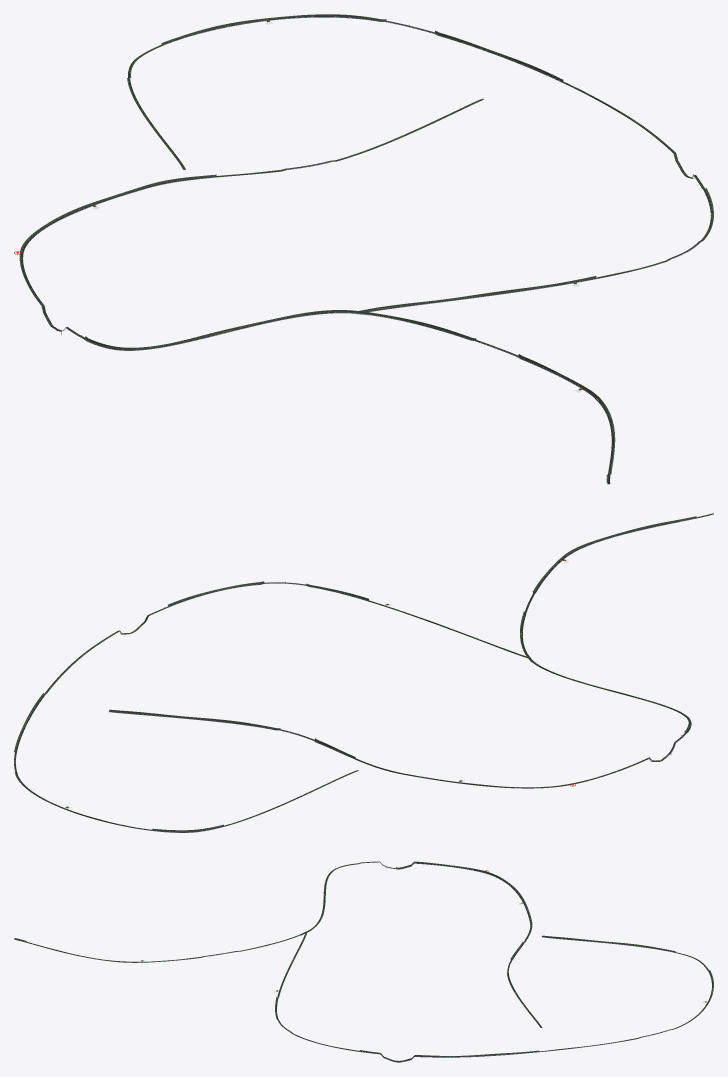
The model's file is deo_me_linh_nam_ban_ca_phe_chon_va_cau_can_ta_nung_ha.glb.
3 views of the same model, one above another, from view 1: azimuth 30°, elevation 25°; view 2: azimuth 150°, elevation 25°; view 3: azimuth 270°, elevation 25° (orthographic). The views are drawn at different scales.
Parts seen in each view (by area): view 1: MeLinh_Asphalt_Carriageway, MeLinh_Split_Granite_Taluy_And_SpillwayDam, MeLinh_Southwest_Basalt_Rock_Cliffs, MeLinh_Coffee_Terrace_Green_Benches; view 2: MeLinh_Southwest_Basalt_Rock_Cliffs, MeLinh_Asphalt_Carriageway, MeLinh_Split_Granite_Taluy_And_SpillwayDam, MeLinh_Coffee_Terrace_Green_Benches; view 3: MeLinh_Asphalt_Carriageway, MeLinh_Southwest_Basalt_Rock_Cliffs, MeLinh_Split_Granite_Taluy_And_SpillwayDam, MeLinh_Coffee_Terrace_Green_Benches.
Boxes of the visible parts, x1=… form: MeLinh_Asphalt_Carriageway: x1=20, y1=16, x2=712, y2=484; MeLinh_Split_Granite_Taluy_And_SpillwayDam: x1=20, y1=15, x2=713, y2=484; MeLinh_Southwest_Basalt_Rock_Cliffs: x1=20, y1=14, x2=713, y2=482; MeLinh_Coffee_Terrace_Green_Benches: x1=19, y1=14, x2=713, y2=483; MeLinh_Southwest_Basalt_Rock_Cliffs: x1=14, y1=513, x2=713, y2=831; MeLinh_Asphalt_Carriageway: x1=14, y1=513, x2=711, y2=832; MeLinh_Split_Granite_Taluy_And_SpillwayDam: x1=14, y1=514, x2=712, y2=832; MeLinh_Coffee_Terrace_Green_Benches: x1=14, y1=513, x2=713, y2=830; MeLinh_Asphalt_Carriageway: x1=14, y1=861, x2=713, y2=1062; MeLinh_Southwest_Basalt_Rock_Cliffs: x1=14, y1=861, x2=713, y2=1061; MeLinh_Split_Granite_Taluy_And_SpillwayDam: x1=15, y1=862, x2=713, y2=1062; MeLinh_Coffee_Terrace_Green_Benches: x1=15, y1=861, x2=713, y2=1060.
Bounding box in the file's own units: 4114 × 104 × 6236.
